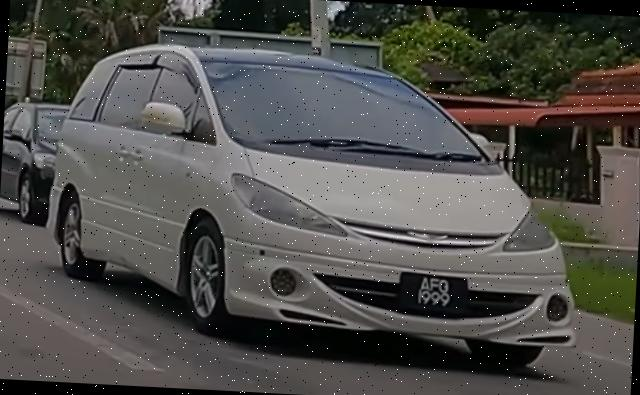License_Plate: (397, 271, 469, 315)
car: (39, 36, 591, 371)
